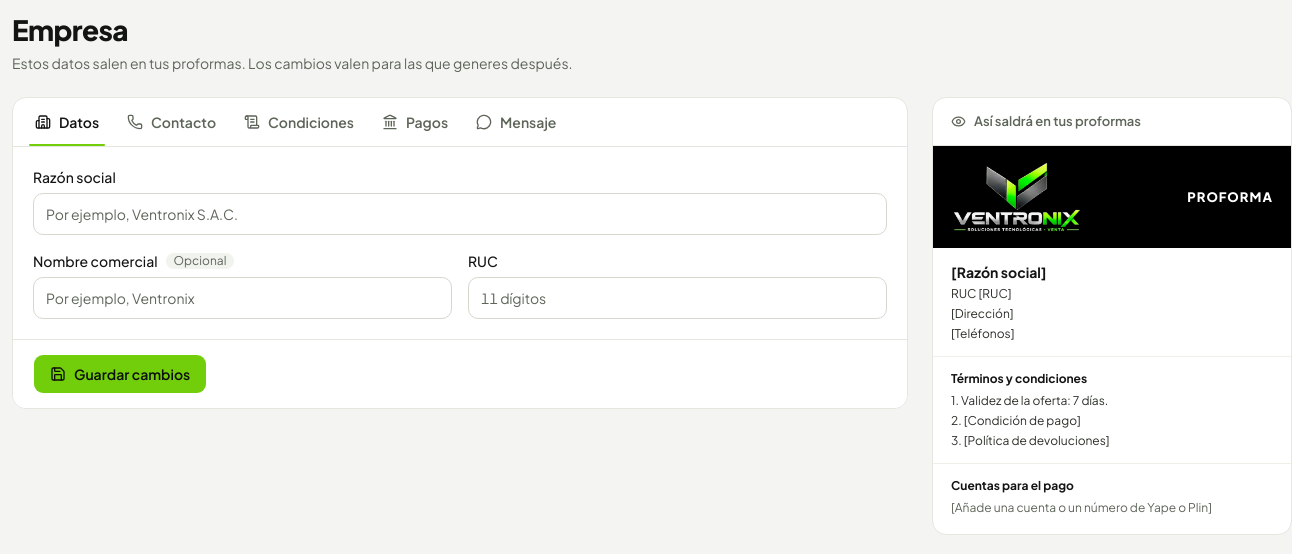
Test: CompanyForm › muestra una sección a la vez, con la vista previa al lado
Expected: the field labelled "Razón social" is shown, [33,193,887,235]
Step 1. Click the tab "Contacto" → (172, 122), box [113,98,230,146]
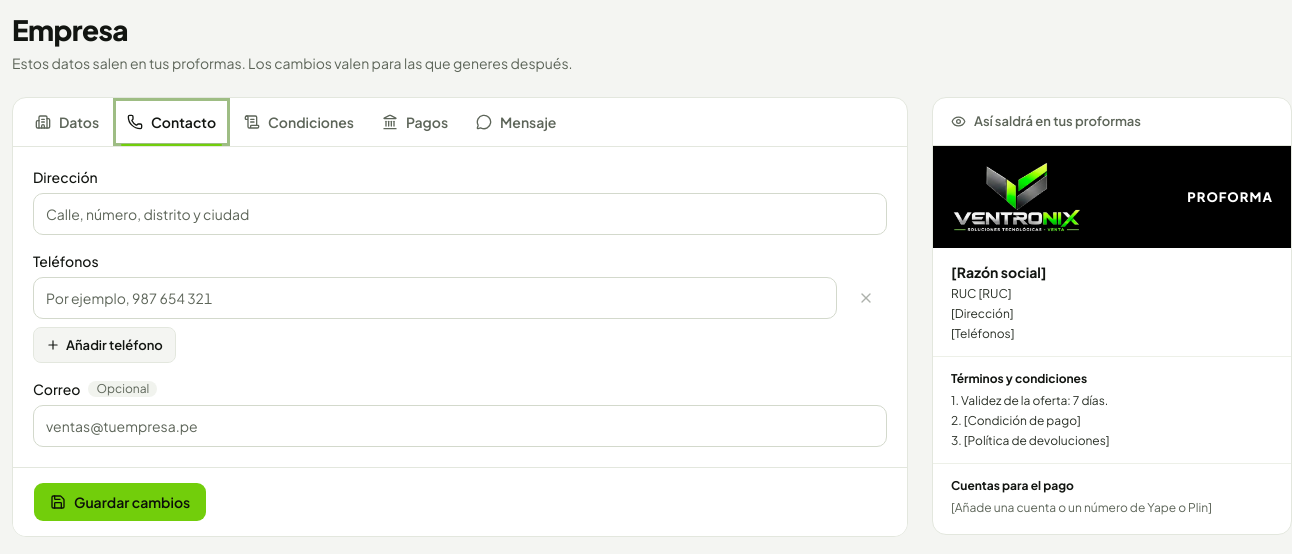
Expected: the element "Así saldrá en tus proformas" shows "[Razón social]", [951,263,1047,281]
Now the field labelled "Dirección" is shown, box [33,193,887,235]
